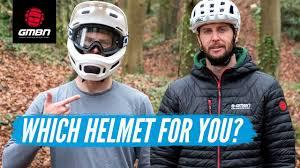helmet: (56, 0, 141, 95), (187, 1, 263, 80)
